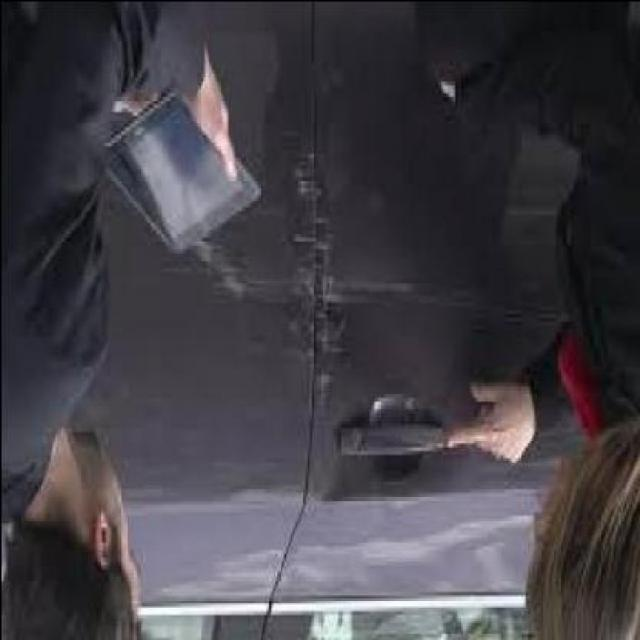damage: (181, 129, 355, 413)
